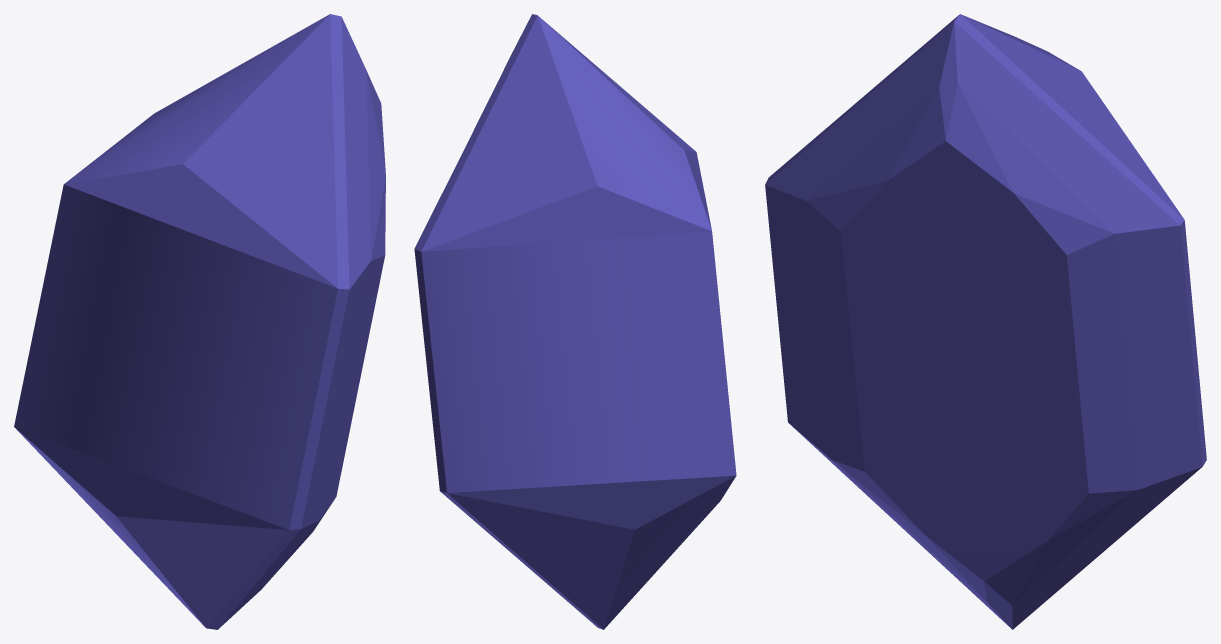
Rendered from TR5_8shapes_Hex_Classic_Stone.001 2.glb.
The picture shows the model from 3 angles, left to right: view 1: azimuth 30°, elevation 25°; view 2: azimuth 150°, elevation 25°; view 3: azimuth 270°, elevation 25°; orthographic projection. The views are drawn at different scales.
Visible parts, largest first — view 1: TR5_8shapes_Hex_Classic_Stone.001; view 2: TR5_8shapes_Hex_Classic_Stone.001; view 3: TR5_8shapes_Hex_Classic_Stone.001.
Part boxes in pixels (x1=…): TR5_8shapes_Hex_Classic_Stone.001: x1=14, y1=14, x2=385, y2=629; TR5_8shapes_Hex_Classic_Stone.001: x1=414, y1=14, x2=736, y2=629; TR5_8shapes_Hex_Classic_Stone.001: x1=765, y1=14, x2=1206, y2=629.
Bounding box in the file's own units: 0.3539 × 0.6489 × 0.3921.
